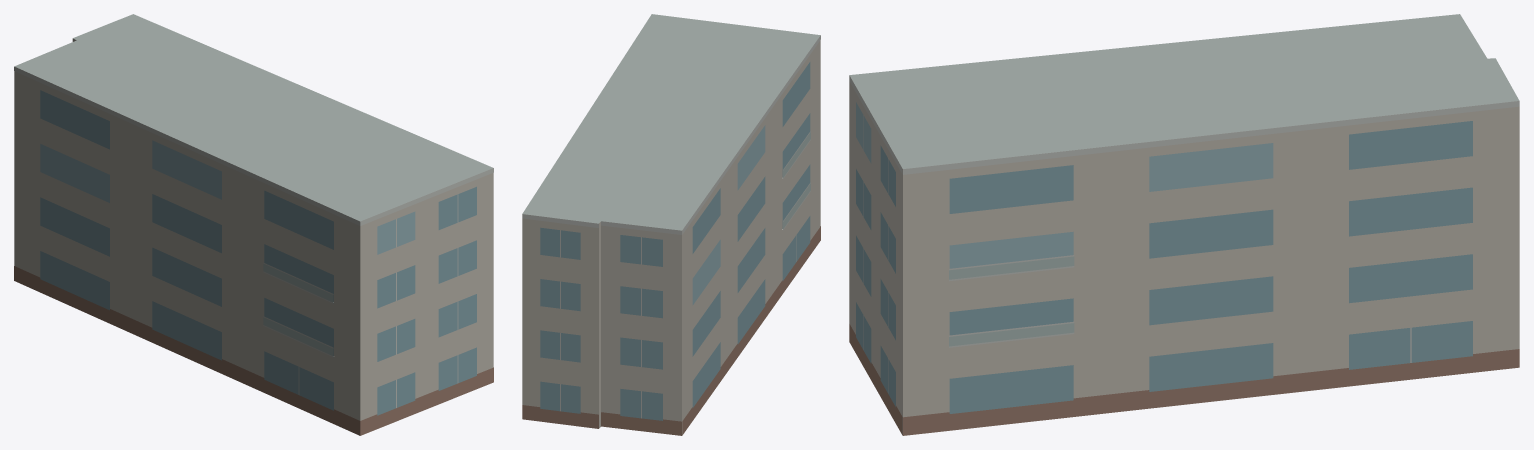
File: survey-upis-32603461.glb
3 renders of one model, left to right at view 1: azimuth 30°, elevation 25°; view 2: azimuth 150°, elevation 25°; view 3: azimuth 270°, elevation 25°, orthographic. The views are drawn at different scales.
Parts seen in each view (by area): view 1: survey-upis-32603461.tmp; view 2: survey-upis-32603461.tmp; view 3: survey-upis-32603461.tmp.
Boxes of the visible parts, box(x1,y1,x2,y2) form: survey-upis-32603461.tmp: box(14, 14, 493, 435); survey-upis-32603461.tmp: box(522, 14, 820, 435); survey-upis-32603461.tmp: box(849, 14, 1519, 435).
Bounding box in the file's own units: 14.11 × 11.3 × 25.75.
